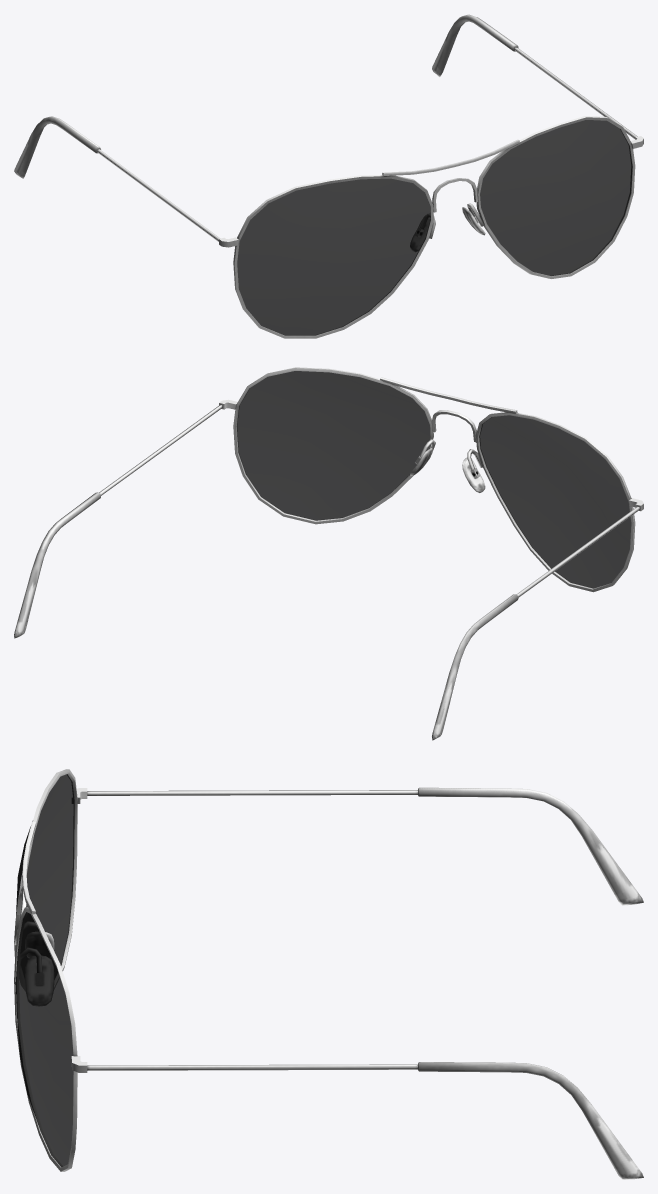
File: sun_glasses (1).glb
The picture shows the model from 3 angles, top to bottom: view 1: azimuth 30°, elevation 25°; view 2: azimuth 150°, elevation 25°; view 3: azimuth 270°, elevation 25°; orthographic projection. The views are drawn at different scales.
Visible parts, largest first — view 1: Object_3, Object_2; view 2: Object_3, Object_2; view 3: Object_2, Object_3.
Part boxes in pixels (<box>): Object_3: <box>237,120,632,335</box>; Object_2: <box>14,14,643,338</box>; Object_3: <box>237,371,631,588</box>; Object_2: <box>14,367,643,740</box>; Object_2: <box>14,769,643,1179</box>; Object_3: <box>15,774,74,1167</box>.
Size of the model in its own units: 120 by 42.16 by 114.
Materials: 2 (1 with a texture image).
